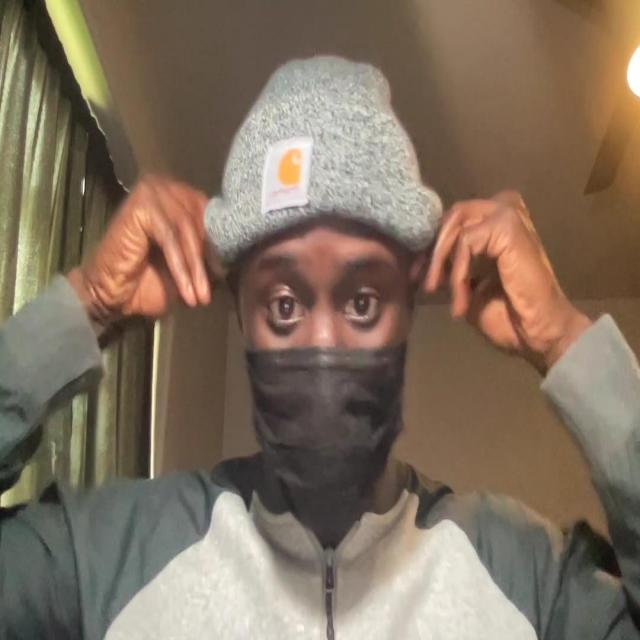face: (229, 227, 412, 521)
